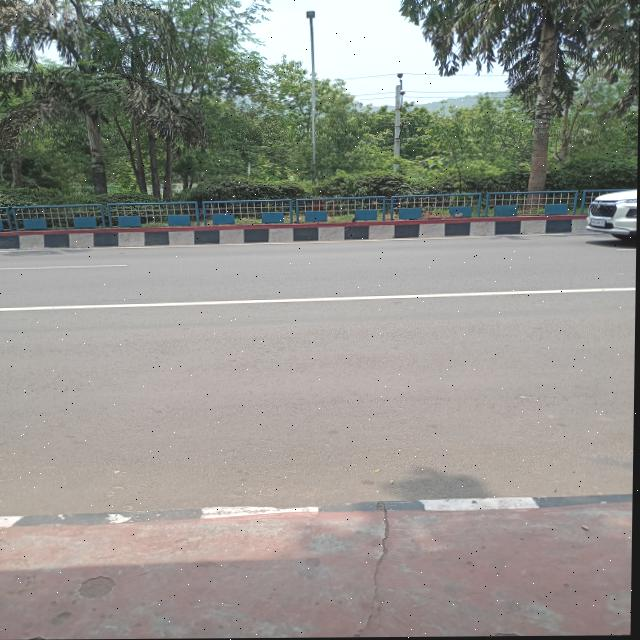car: (591, 179, 638, 252)
